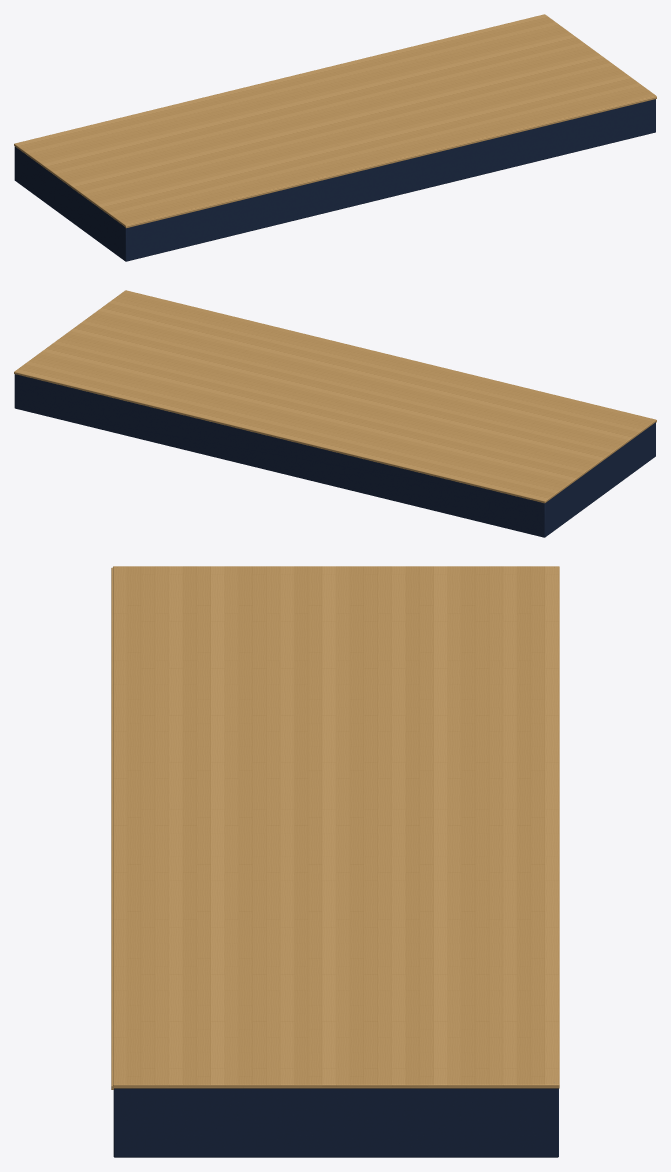
Rendered from 18_stage_platform.glb.
The picture shows the model from 3 angles, top to bottom: view 1: azimuth 30°, elevation 25°; view 2: azimuth 150°, elevation 25°; view 3: azimuth 270°, elevation 25°; orthographic projection. The views are drawn at different scales.
Visible parts, largest first — view 1: 18_stage_platform__maple_deck, 18_stage_platform__navy_solid_fascia, 18_stage_platform__wood_front_nosing; view 2: 18_stage_platform__maple_deck, 18_stage_platform__navy_solid_fascia; view 3: 18_stage_platform__maple_deck, 18_stage_platform__navy_solid_fascia, 18_stage_platform__wood_front_nosing.
Part boxes in pixels (bbox=[...]): 18_stage_platform__maple_deck: bbox=[14, 14, 656, 226]; 18_stage_platform__navy_solid_fascia: bbox=[14, 99, 655, 261]; 18_stage_platform__wood_front_nosing: bbox=[125, 96, 656, 228]; 18_stage_platform__maple_deck: bbox=[14, 290, 656, 503]; 18_stage_platform__navy_solid_fascia: bbox=[14, 374, 655, 537]; 18_stage_platform__maple_deck: bbox=[113, 566, 559, 1088]; 18_stage_platform__navy_solid_fascia: bbox=[113, 1088, 558, 1157]; 18_stage_platform__wood_front_nosing: bbox=[111, 567, 113, 1089].
Bounding box in the file's own units: 11.01 × 0.734 × 4.03.
Materials: 3 (3 with a texture image).
